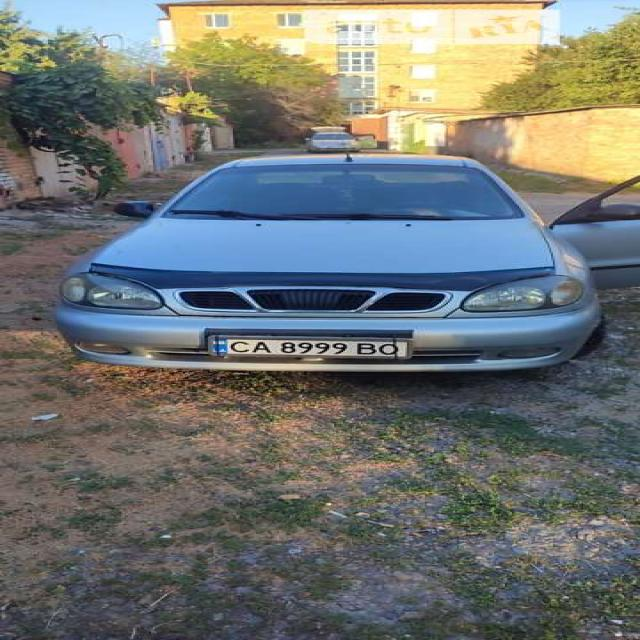plate: (200, 332, 428, 369)
